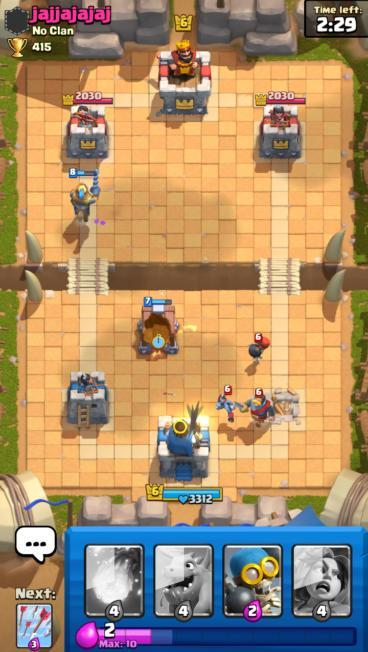ally_goblin_cage: (132, 293, 183, 361)
ally_prince: (65, 165, 103, 226)
enemy_bomber: (245, 331, 270, 367)
enemy_knight: (236, 386, 277, 428)
enemy_minion: (215, 382, 243, 424)
